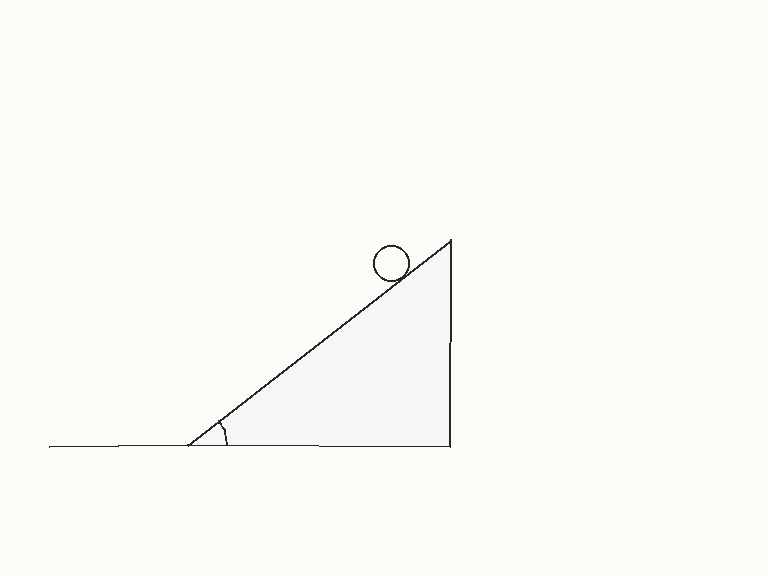ball: (371, 243, 411, 283)
ramp: (185, 237, 452, 447)
